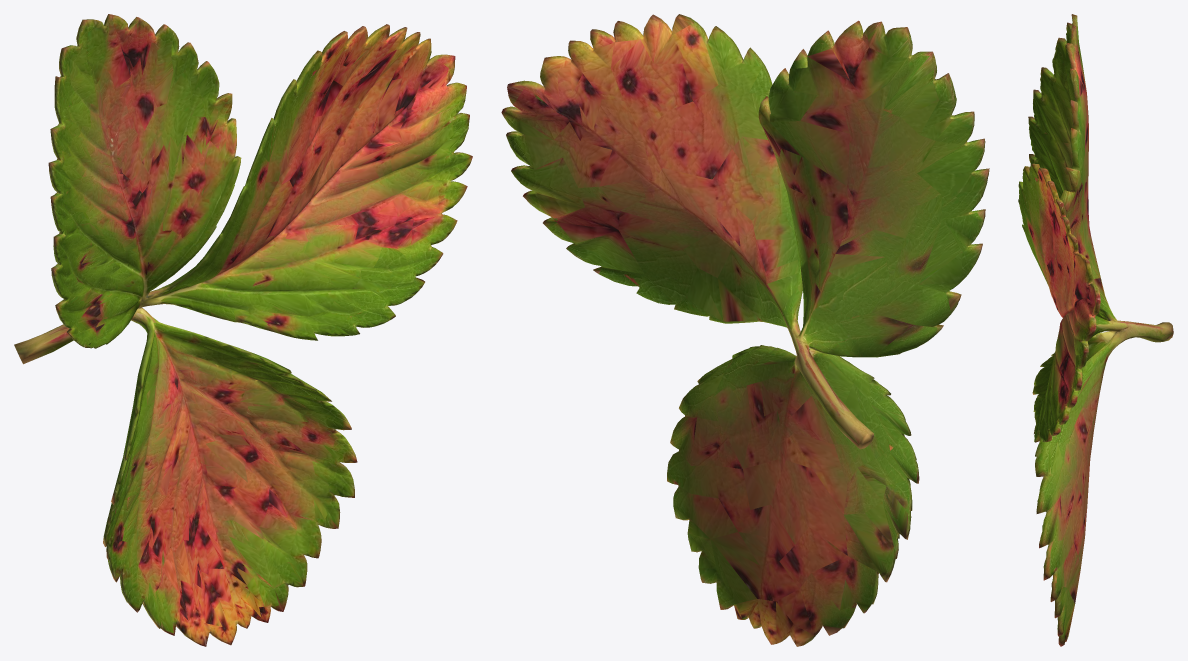
Rendered from strawberry_leaf_scorch.glb.
3 renders of one model, left to right at view 1: azimuth 30°, elevation 25°; view 2: azimuth 150°, elevation 25°; view 3: azimuth 270°, elevation 25°, orthographic. The views are drawn at different scales.
Parts seen in each view (by area): view 1: strawberry_leaf_scorch; view 2: strawberry_leaf_scorch; view 3: strawberry_leaf_scorch.
Part boxes in pixels (x1=…): strawberry_leaf_scorch: x1=14, y1=14, x2=472, y2=646; strawberry_leaf_scorch: x1=501, y1=14, x2=989, y2=646; strawberry_leaf_scorch: x1=1018, y1=14, x2=1173, y2=646.
Size of the model in its own units: 0.7194 by 1 by 0.2473.
Materials: 1 (1 with a texture image).
